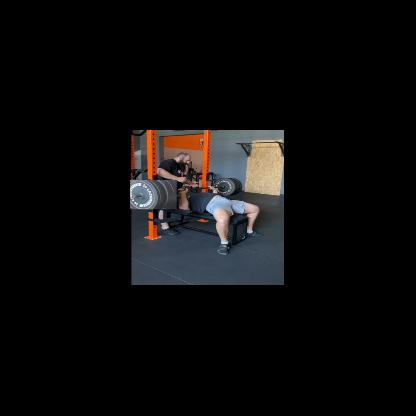barbell: (130, 180, 177, 210)
